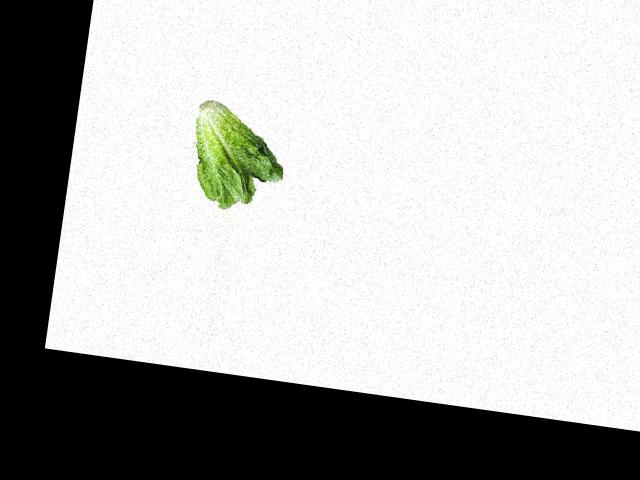lettuce: (180, 98, 295, 218)
